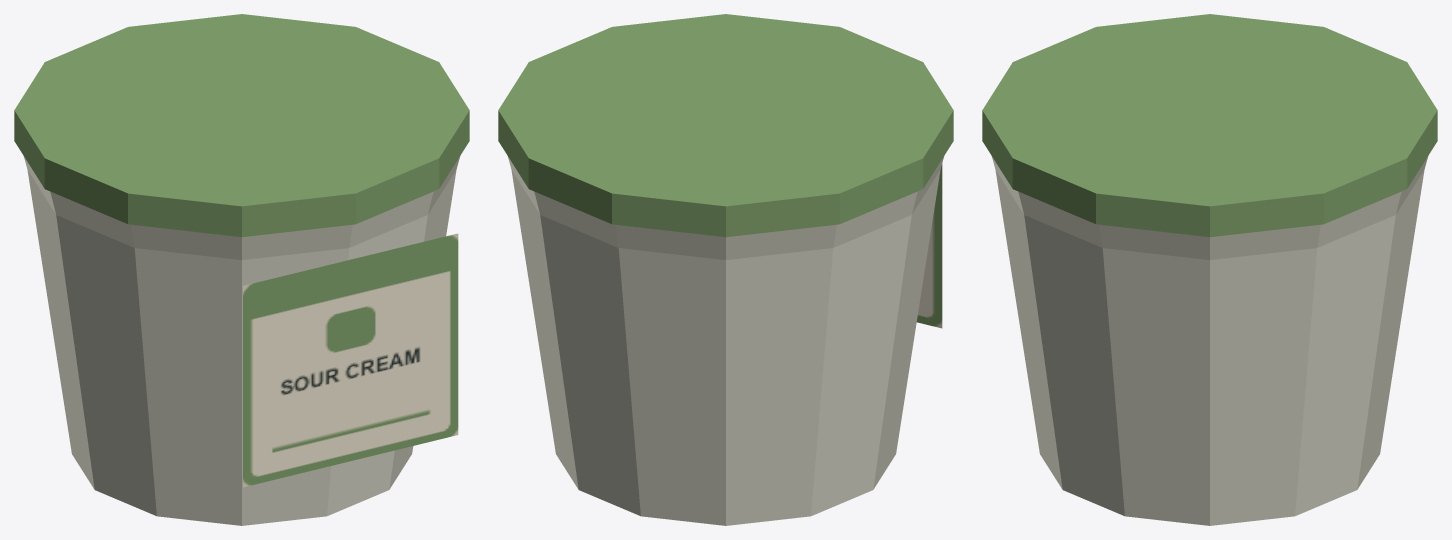
Rendered from sour_cream.fbx.
3 views of the same model, side by side, from view 1: azimuth 30°, elevation 25°; view 2: azimuth 150°, elevation 25°; view 3: azimuth 270°, elevation 25° (orthographic).
Parts seen in each view (by area): view 1: sour_cream; view 2: sour_cream; view 3: sour_cream.
Part boxes in pixels (x1,y1,x2,y2): sour_cream: (14, 14, 469, 525); sour_cream: (498, 14, 953, 525); sour_cream: (982, 14, 1437, 525).
Bounding box in the file's own units: 17.4 × 14.5 × 17.4.
